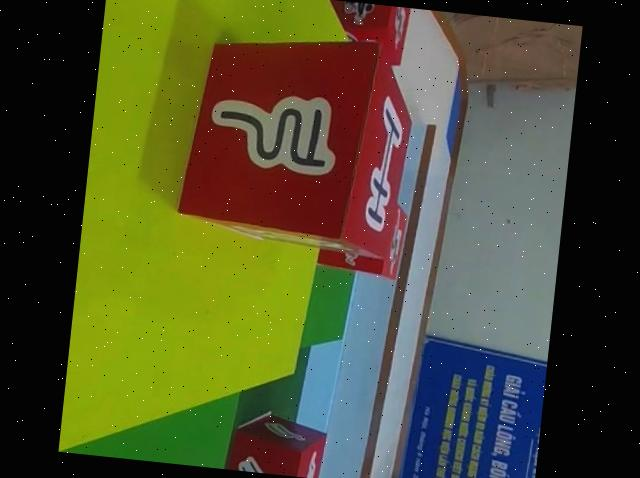R1: (320, 0, 413, 64)
R2 Fake: (172, 21, 421, 261)
R2 Real: (216, 405, 330, 478)
